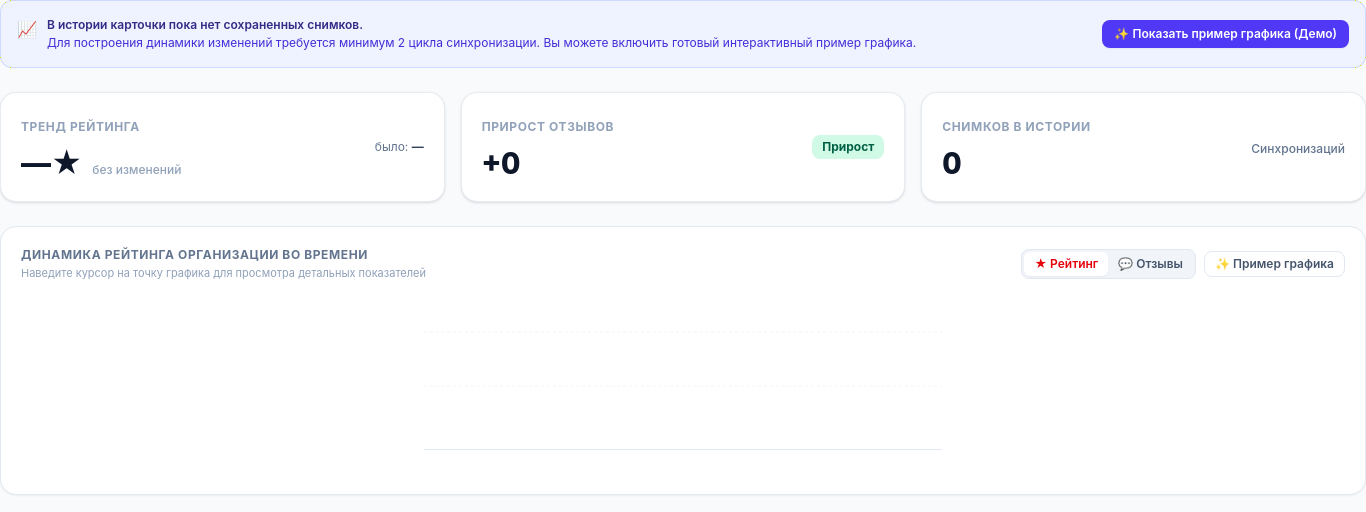
ReputationTrendChart.vue › activates demo mode when demo button clicked
Click the button "✨ Пример графика".
click(1274, 264)  # box [1204,251,1345,277]
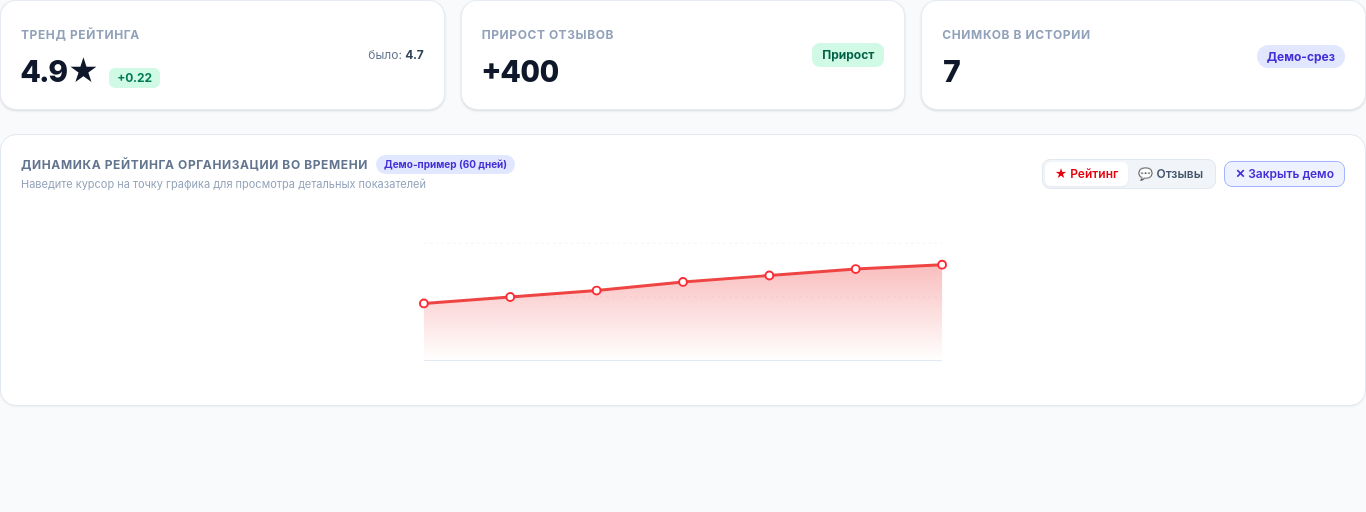
Expected: the text "Демо-пример (60 дней)" is shown, [376,155,515,174]
Expected: the text "4.9★" is shown, [21,53,99,89]
